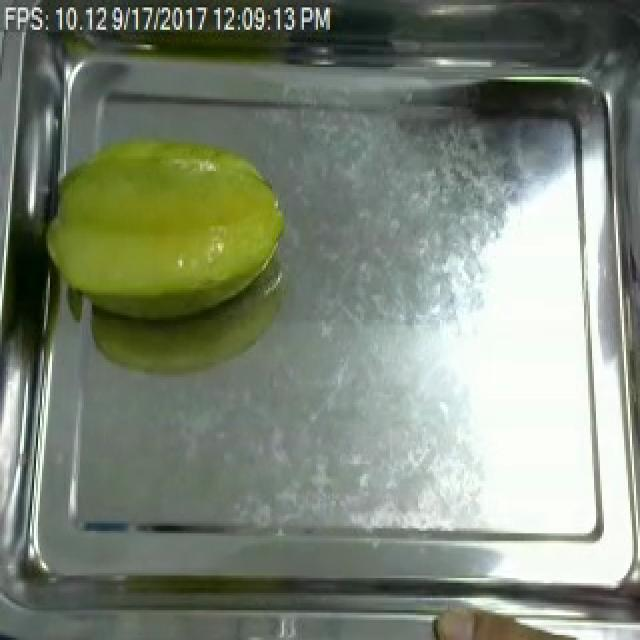fruit: (38, 121, 294, 330)
